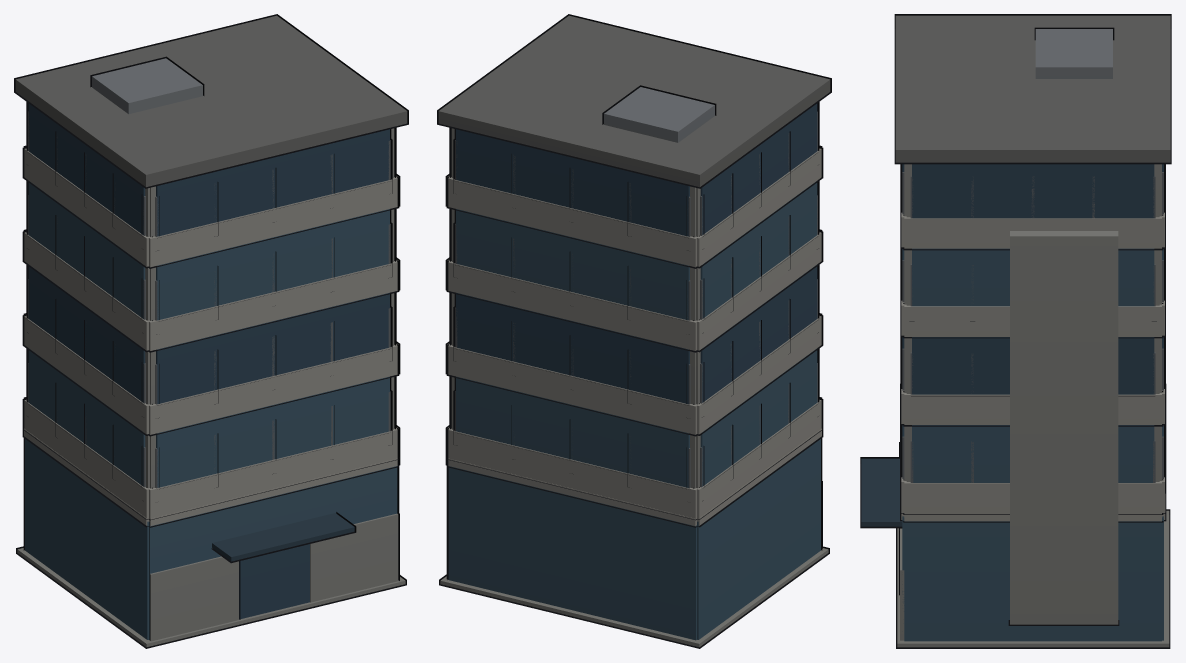
File: town_city_block_shut.glb
3 views of the same model, side by side, from view 1: azimuth 30°, elevation 25°; view 2: azimuth 150°, elevation 25°; view 3: azimuth 270°, elevation 25° (orthographic). The views are drawn at different scales.
Visible parts, largest first — view 1: prop; view 2: prop; view 3: prop.
Part boxes in pixels (x1,y1,x2,y2): prop: [14, 14, 408, 648]; prop: [437, 14, 831, 648]; prop: [860, 14, 1171, 648].
Bounding box in the file's own units: 11.42 × 19.73 × 10.88.
